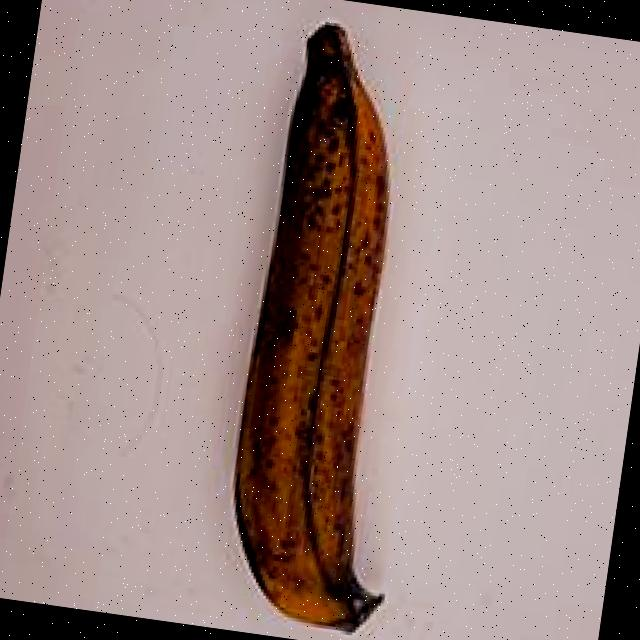Overripe: (139, 7, 507, 640)
